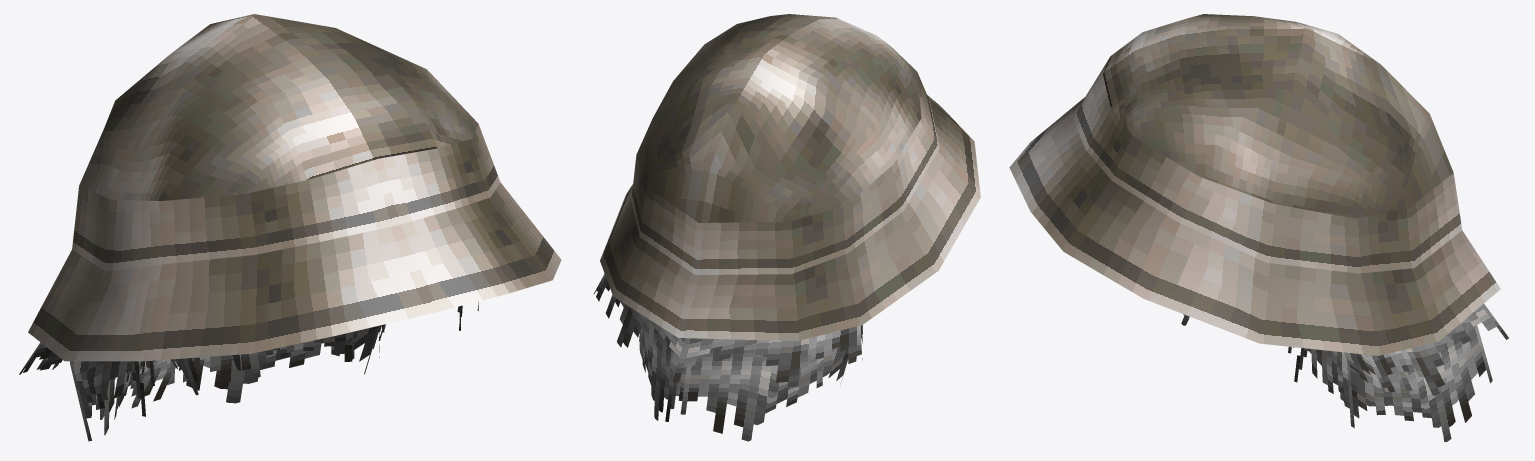
Rendered from f_hair017.glb.
3 views of the same model, side by side, from view 1: azimuth 30°, elevation 25°; view 2: azimuth 150°, elevation 25°; view 3: azimuth 270°, elevation 25° (orthographic). The views are drawn at different scales.
Bounding box in the file's own units: 24.83 × 25.66 × 30.33.
Materials: 1 (1 with a texture image).
